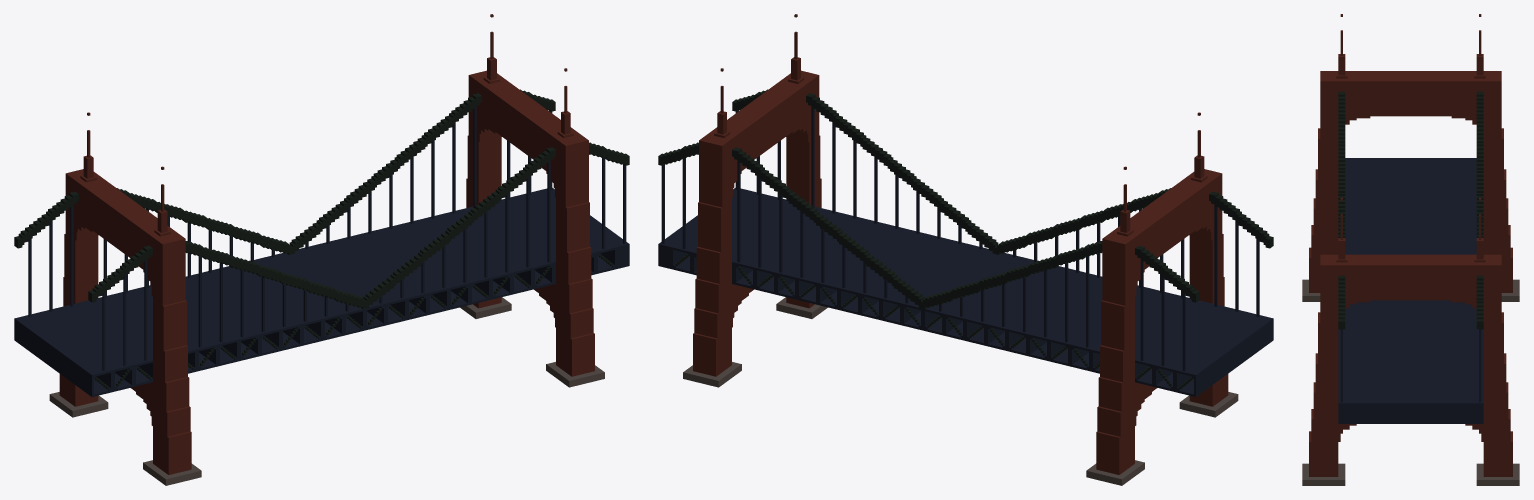
The model's file is Bridge-1.obj.
3 renders of one model, left to right at view 1: azimuth 30°, elevation 25°; view 2: azimuth 150°, elevation 25°; view 3: azimuth 270°, elevation 25°, orthographic. The views are drawn at different scales.
Bounding box in the file's own units: 25.6 × 13.6 × 9.6.
Materials: 1 (1 with a texture image).
